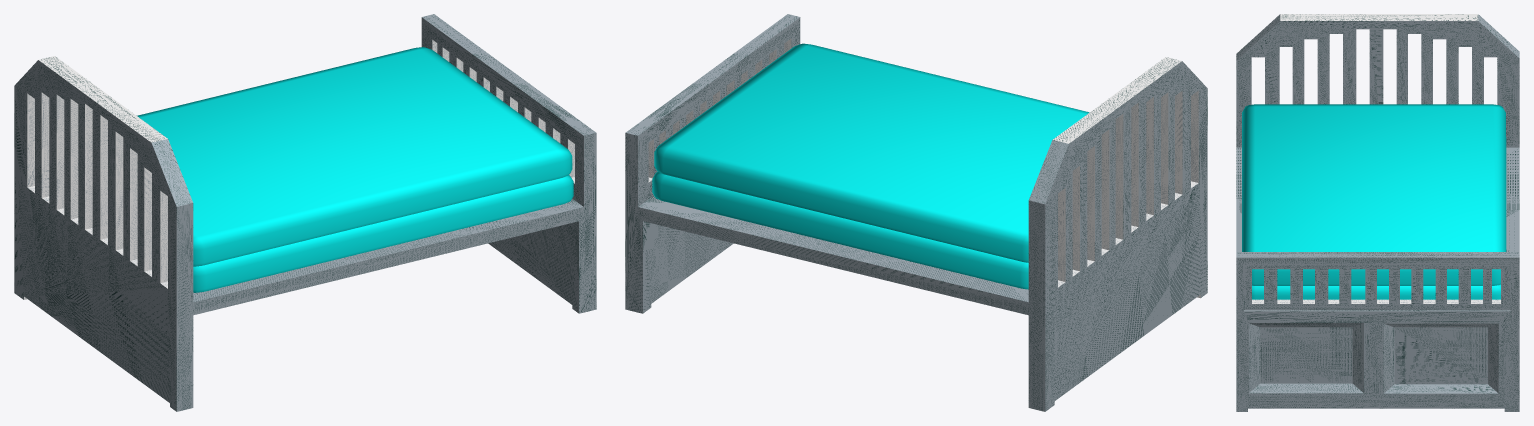
The model's file is bed.fbx.
3 views of the same model, side by side, from view 1: azimuth 30°, elevation 25°; view 2: azimuth 150°, elevation 25°; view 3: azimuth 270°, elevation 25° (orthographic). The views are drawn at different scales.
Parts seen in each view (by area): view 1: Model, Queen_size_Mattress1, Queen_size_Mattress2; view 2: Model, Queen_size_Mattress1, Queen_size_Mattress2; view 3: Model, Queen_size_Mattress1, Queen_size_Mattress2.
Part boxes in pixels (x1=…): Model: x1=14, y1=14, x2=596, y2=411; Queen_size_Mattress1: x1=137, y1=47, x2=572, y2=266; Queen_size_Mattress2: x1=193, y1=175, x2=573, y2=292; Model: x1=625, y1=14, x2=1207, y2=411; Queen_size_Mattress1: x1=654, y1=43, x2=1089, y2=262; Queen_size_Mattress2: x1=652, y1=172, x2=1028, y2=289; Model: x1=1236, y1=14, x2=1519, y2=411; Queen_size_Mattress1: x1=1242, y1=104, x2=1505, y2=285; Queen_size_Mattress2: x1=1252, y1=137, x2=1506, y2=299.
Size of the model in its own units: 46.17 by 26.35 by 30.92.
